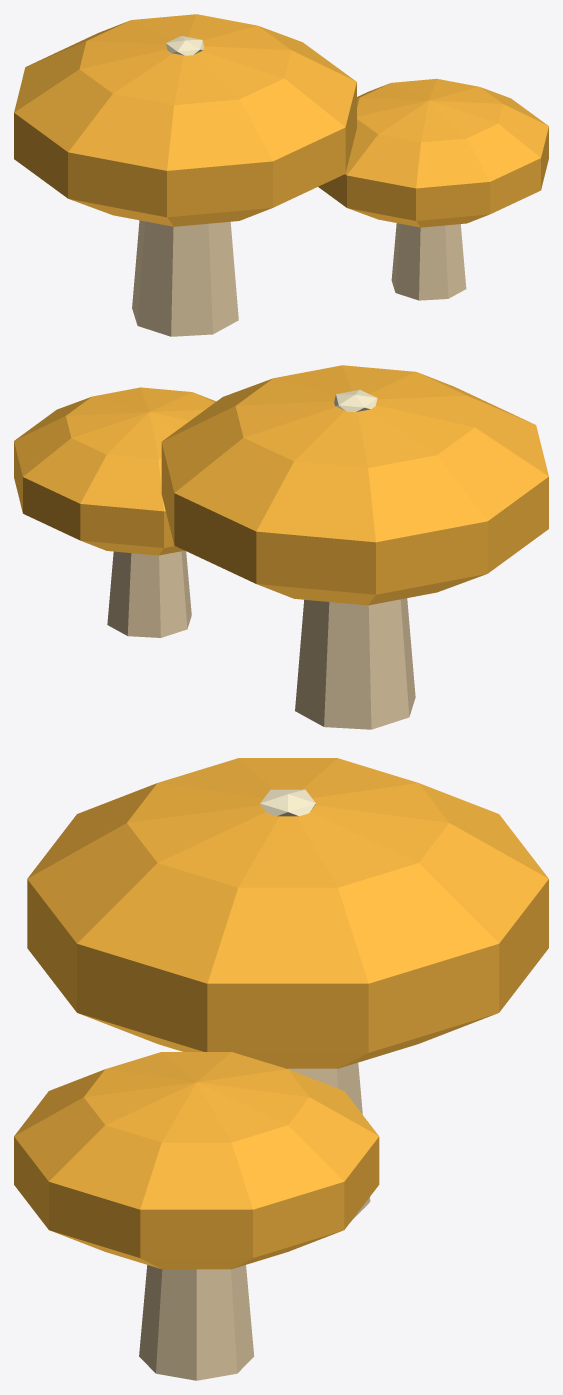
File: golden-mushroom-pair.glb
3 renders of one model, top to bottom at view 1: azimuth 30°, elevation 25°; view 2: azimuth 150°, elevation 25°; view 3: azimuth 270°, elevation 25°, orthographic. The views are drawn at different scales.
Visible parts, largest first — view 1: Tall golden mushroom cap, Small golden mushroom cap, Tall golden mushroom stalk, Small golden mushroom stalk, Tall golden mushroom top spot; view 2: Tall golden mushroom cap, Small golden mushroom cap, Tall golden mushroom stalk, Small golden mushroom stalk, Tall golden mushroom top spot; view 3: Tall golden mushroom cap, Small golden mushroom cap, Small golden mushroom stalk, Tall golden mushroom stalk, Tall golden mushroom top spot.
Part boxes in pixels (x1,y1,x2,y2): Tall golden mushroom cap: (14, 14, 356, 226); Small golden mushroom cap: (318, 78, 548, 227); Tall golden mushroom stalk: (132, 220, 238, 336); Small golden mushroom stalk: (391, 223, 466, 300); Tall golden mushroom top spot: (166, 36, 203, 55); Tall golden mushroom cap: (161, 365, 548, 605); Small golden mushroom cap: (14, 387, 216, 555); Tall golden mushroom stalk: (295, 598, 415, 729); Small golden mushroom stalk: (107, 550, 191, 637); Tall golden mushroom top spot: (334, 389, 377, 412); Tall golden mushroom cap: (27, 758, 548, 1068); Small golden mushroom cap: (14, 1052, 379, 1269); Small golden mushroom stalk: (139, 1265, 254, 1380); Tall golden mushroom stalk: (287, 1062, 370, 1221); Tall golden mushroom top spot: (260, 789, 315, 816).
Size of the model in its own units: 0.4306 by 0.246 by 0.2925.
